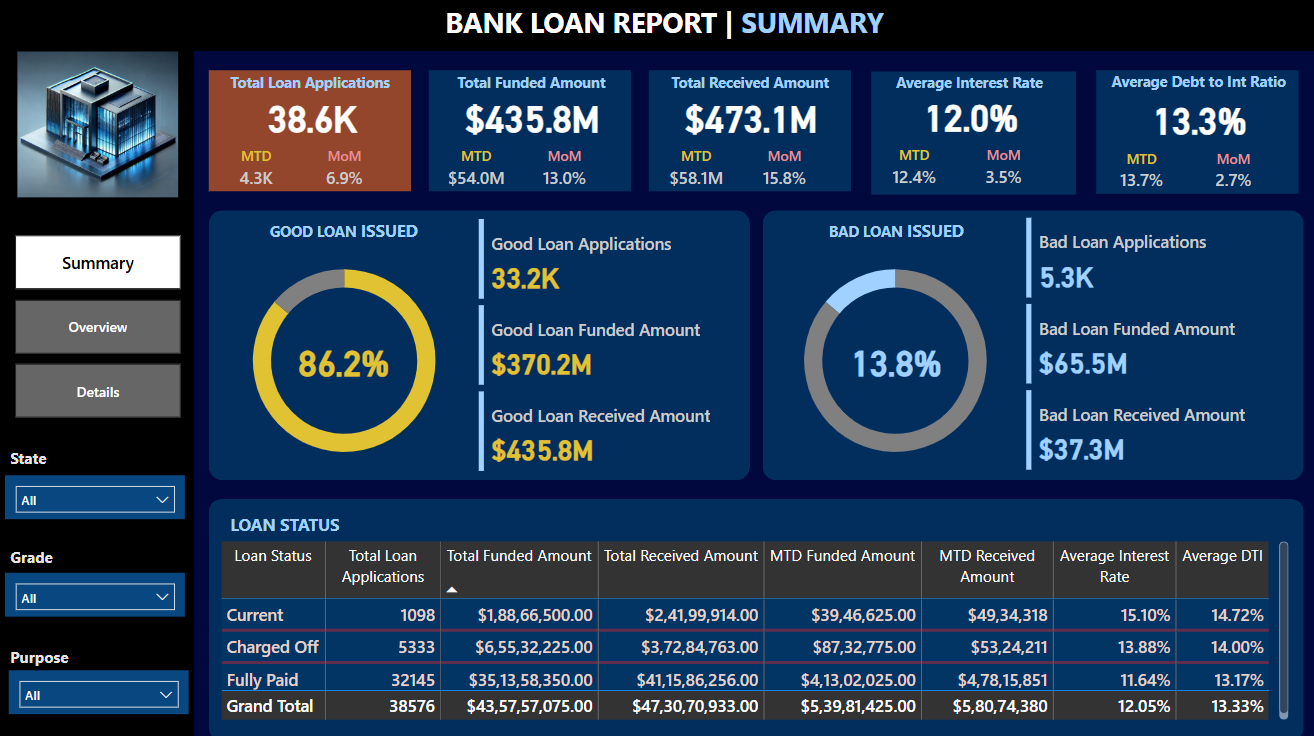

Layout of this report page (visuals, bound fields, positions):
{"tool":"powerbi","page":{"name":"Summary","canvas":[1280,720],"ordinal":0},"visuals":[{"type":"shape","box":[0,0,192,720.2],"z":0},{"type":"shape","box":[206.3,73.6,195.4,117],"z":0,"group":"g1"},{"type":"shape","box":[418.5,73.6,195.4,117],"z":0,"group":"g2"},{"type":"shape","box":[630.9,73.6,195.4,117],"z":0,"group":"g3"},{"type":"shape","box":[1063.2,73.6,195.4,119.4],"z":0,"group":"g5"},{"type":"shape","box":[846,74.2,197.7,118.9],"z":0,"group":"g4"},{"type":"shape","box":[0,0,1280,55],"z":1000},{"type":"card","fields":{"Values":["Bank_Loan_DB.Average Interest Rate"]},"box":[846.8,92.6,190.4,47.8],"z":1000,"group":"g4"},{"type":"card","fields":{"Values":["Bank_Loan_DB.Total Loan Applications"]},"box":[212.1,94.6,188.2,47.1],"z":1000,"group":"g1"},{"type":"card","fields":{"Values":["Bank_Loan_DB.Total Funded Amount"]},"box":[424.3,94.6,188.2,47.1],"z":1000,"group":"g2"},{"type":"card","fields":{"Values":["Bank_Loan_DB.Total Received Amount"]},"box":[636.6,94.6,188.2,47.1],"z":1000,"group":"g3"},{"type":"card","fields":{"Values":["Bank_Loan_DB.Average DTI"]},"box":[1064.4,97,196.9,47.1],"z":1000,"group":"g5"},{"type":"textbox","box":[1053.5,70.5,217.2,32.6],"z":2000,"group":"g5"},{"type":"textbox","box":[835.3,71,211.1,31.4],"z":2000,"group":"g4"},{"type":"textbox","box":[199,71.7,209.9,29],"z":2000,"group":"g1"},{"type":"textbox","box":[413.3,71.7,207.5,29],"z":2000,"group":"g2"},{"type":"textbox","box":[624.1,71.7,209.9,29],"z":2000,"group":"g3"},{"type":"shape","box":[206.3,208.7,522.4,260.6],"z":2000},{"type":"card","title":"MTD","fields":{"Values":["Bank_Loan_DB.MTD Average Interest Rate"]},"box":[853.2,146,68.3,44.1],"z":3000,"group":"g4"},{"type":"card","title":"MTD","fields":{"Values":["Bank_Loan_DB.MTD Loan Applications"]},"box":[218.4,147.2,67.6,43.4],"z":3000,"group":"g1"},{"type":"card","title":"MTD","fields":{"Values":["Bank_Loan_DB.MTD Funded Amount"]},"box":[430.6,147.2,67.6,43.4],"z":3000,"group":"g2"},{"type":"card","title":"MTD","fields":{"Values":["Bank_Loan_DB.MTD Received Amount"]},"box":[643,147.2,67.6,43.4],"z":3000,"group":"g3"},{"type":"card","title":"MTD","fields":{"Values":["Bank_Loan_DB.MTD DTI"]},"box":[1071,149.6,70.7,43.4],"z":3000,"group":"g5"},{"type":"donutChart","fields":{"Category":["Bank_Loan_DB.Good vs Bad Loan"],"Y":["Bank_Loan_DB.Total Loan Applications"]},"box":[212.3,238.9,249.7,230.4],"z":3000},{"type":"card","title":"MoM","fields":{"Values":["Bank_Loan_DB.Mom Average Interest Rate"]},"box":[939.8,146,67.1,44.1],"z":4000,"group":"g4"},{"type":"card","title":"MoM","fields":{"Values":["Bank_Loan_DB.Mom Loan Application"]},"box":[304,147.2,66.4,43.4],"z":4000,"group":"g1"},{"type":"card","title":"MoM","fields":{"Values":["Bank_Loan_DB.Mom Funded Amount"]},"box":[516.3,147.2,66.4,43.4],"z":4000,"group":"g2"},{"type":"card","title":"MoM","fields":{"Values":["Bank_Loan_DB.Mom Received Amount"]},"box":[728.6,147.2,66.4,43.4],"z":4000,"group":"g3"},{"type":"card","title":"MoM","fields":{"Values":["Bank_Loan_DB.Mom DTI Ratio"]},"box":[1160.6,149.6,69.4,43.4],"z":4000,"group":"g5"},{"type":"card","fields":{"Values":["Bank_Loan_DB.Good Loan %"]},"box":[272.7,330.6,127.9,47.1],"z":4000},{"type":"textbox","box":[347.5,564.6,393.3,29],"z":5000},{"type":"textbox","box":[231.6,212.3,209.9,39.8],"z":6000},{"type":"textbox","box":[422.3,3.6,447.6,47.1],"z":7000},{"type":"group","id":"g1","title":"Group 1","box":[199,71.7,209.9,118.9],"z":8000},{"type":"group","id":"g2","title":"Group 1","box":[413.3,71.7,207.5,118.9],"z":9000},{"type":"group","id":"g3","title":"Group 1","box":[624.1,71.7,209.9,118.9],"z":10000},{"type":"group","id":"g4","title":"Group 1","box":[835.3,71,211.1,122.1],"z":11000},{"type":"group","id":"g5","title":"Group 1","box":[1053.5,70.5,217.2,122.6],"z":12000},{"type":"shape","box":[740.8,208.7,522.4,260.6],"z":13000},{"type":"cardVisual","fields":{"Data":["Bank_Loan_DB.Good Loan Applications","Bank_Loan_DB.Good Loan Funded Amount","Bank_Loan_DB.Good Loan Received Amount"]},"box":[462.1,212.3,254.6,254.6],"z":14000},{"type":"donutChart","fields":{"Category":["Bank_Loan_DB.Good vs Bad Loan"],"Y":["Bank_Loan_DB.Total Loan Applications"]},"box":[744.4,238.9,249.7,230.4],"z":15000},{"type":"shape","box":[206.3,487.4,1056.8,232.8],"z":16000},{"type":"cardVisual","fields":{"Data":["Bank_Loan_DB.Bad Loan Applications","Bank_Loan_DB.Bad Loan Funded Amount","Bank_Loan_DB.Bad Loan Received Amount"]},"box":[990.5,211.1,254.6,254.6],"z":17000},{"type":"textbox","box":[764.9,212.3,209.9,39.8],"z":18000},{"type":"card","fields":{"Values":["Bank_Loan_DB.Bad Loan %"]},"box":[805.9,330.6,127.9,47.1],"z":19000},{"type":"tableEx","fields":{"Values":["Bank_Loan_DB.loan_status","Bank_Loan_DB.Total Loan Applications","Bank_Loan_DB.Total Funded Amount","Bank_Loan_DB.Total Received Amount","Bank_Loan_DB.MTD Funded Amount","Bank_Loan_DB.MTD Received Amount","Bank_Loan_DB.Average Interest Rate","Bank_Loan_DB.Average DTI"]},"box":[212.3,523.6,1041.2,182.2],"z":20000},{"type":"textbox","box":[222,495.8,219.6,31.4],"z":21000},{"type":"slicer","fields":{"Values":["Bank_Loan_DB.address_state"]},"box":[9.7,464,173.7,42.2],"z":22000},{"type":"textbox","box":[9.7,433.1,53.1,36.2],"z":23000},{"type":"slicer","fields":{"Values":["Bank_Loan_DB.grade"]},"box":[9.7,558.3,173.7,42.2],"z":24000},{"type":"slicer","fields":{"Values":["Bank_Loan_DB.purpose"]},"box":[13.3,652.7,173.7,42.2],"z":25000},{"type":"textbox","box":[9.7,624.9,78.4,36.2],"z":26000},{"type":"textbox","box":[9.7,528.4,63.9,36.2],"z":27000},{"type":"pageNavigator","box":[19.3,232.8,160.5,178.6],"z":28000},{"type":"image","box":[0,50.7,199.1,150.8],"z":29000}]}

Visuals, with their boxes in screenshot pixels (x1, y1, x2, y2), scaled from the page's 1280x720 canvas onto the 1314x736 screenshot:
shape: pyautogui.locateOnScreen(0, 0, 197, 735)
shape: pyautogui.locateOnScreen(212, 75, 412, 195)
shape: pyautogui.locateOnScreen(430, 75, 630, 195)
shape: pyautogui.locateOnScreen(648, 75, 848, 195)
shape: pyautogui.locateOnScreen(1091, 75, 1292, 197)
shape: pyautogui.locateOnScreen(868, 76, 1071, 197)
shape: pyautogui.locateOnScreen(0, 0, 1313, 56)
card - Bank_Loan_DB.Average Interest Rate: pyautogui.locateOnScreen(869, 95, 1065, 144)
card - Bank_Loan_DB.Total Loan Applications: pyautogui.locateOnScreen(218, 97, 411, 145)
card - Bank_Loan_DB.Total Funded Amount: pyautogui.locateOnScreen(436, 97, 629, 145)
card - Bank_Loan_DB.Total Received Amount: pyautogui.locateOnScreen(654, 97, 847, 145)
card - Bank_Loan_DB.Average DTI: pyautogui.locateOnScreen(1093, 99, 1295, 147)
textbox: pyautogui.locateOnScreen(1081, 72, 1304, 105)
textbox: pyautogui.locateOnScreen(857, 73, 1074, 105)
textbox: pyautogui.locateOnScreen(204, 73, 420, 103)
textbox: pyautogui.locateOnScreen(424, 73, 637, 103)
textbox: pyautogui.locateOnScreen(641, 73, 856, 103)
shape: pyautogui.locateOnScreen(212, 213, 748, 480)
"MTD" card: pyautogui.locateOnScreen(876, 149, 946, 194)
"MTD" card: pyautogui.locateOnScreen(224, 150, 294, 195)
"MTD" card: pyautogui.locateOnScreen(442, 150, 511, 195)
"MTD" card: pyautogui.locateOnScreen(660, 150, 729, 195)
"MTD" card: pyautogui.locateOnScreen(1099, 153, 1172, 197)
donutChart - Bank_Loan_DB.Good vs Bad Loan x Bank_Loan_DB.Total Loan Applications: pyautogui.locateOnScreen(218, 244, 474, 480)
"MoM" card: pyautogui.locateOnScreen(965, 149, 1034, 194)
"MoM" card: pyautogui.locateOnScreen(312, 150, 380, 195)
"MoM" card: pyautogui.locateOnScreen(530, 150, 598, 195)
"MoM" card: pyautogui.locateOnScreen(748, 150, 816, 195)
"MoM" card: pyautogui.locateOnScreen(1191, 153, 1263, 197)
card - Bank_Loan_DB.Good Loan %: pyautogui.locateOnScreen(280, 338, 411, 386)
textbox: pyautogui.locateOnScreen(357, 577, 760, 607)
textbox: pyautogui.locateOnScreen(238, 217, 453, 258)
textbox: pyautogui.locateOnScreen(434, 4, 893, 52)
"Group 1" group: pyautogui.locateOnScreen(204, 73, 420, 195)
"Group 1" group: pyautogui.locateOnScreen(424, 73, 637, 195)
"Group 1" group: pyautogui.locateOnScreen(641, 73, 856, 195)
"Group 1" group: pyautogui.locateOnScreen(857, 73, 1074, 197)
"Group 1" group: pyautogui.locateOnScreen(1081, 72, 1304, 197)
shape: pyautogui.locateOnScreen(760, 213, 1297, 480)
cardVisual - Bank_Loan_DB.Good Loan Applications x Bank_Loan_DB.Good Loan Funded Amount: pyautogui.locateOnScreen(474, 217, 736, 477)
donutChart - Bank_Loan_DB.Good vs Bad Loan x Bank_Loan_DB.Total Loan Applications: pyautogui.locateOnScreen(764, 244, 1021, 480)
shape: pyautogui.locateOnScreen(212, 498, 1297, 735)
cardVisual - Bank_Loan_DB.Bad Loan Applications x Bank_Loan_DB.Bad Loan Funded Amount: pyautogui.locateOnScreen(1017, 216, 1278, 476)
textbox: pyautogui.locateOnScreen(785, 217, 1001, 258)
card - Bank_Loan_DB.Bad Loan %: pyautogui.locateOnScreen(827, 338, 959, 386)
tableEx - Bank_Loan_DB.loan_status x Bank_Loan_DB.Total Loan Applications: pyautogui.locateOnScreen(218, 535, 1287, 721)
textbox: pyautogui.locateOnScreen(228, 507, 453, 539)
slicer - Bank_Loan_DB.address_state: pyautogui.locateOnScreen(10, 474, 188, 517)
textbox: pyautogui.locateOnScreen(10, 443, 64, 480)
slicer - Bank_Loan_DB.grade: pyautogui.locateOnScreen(10, 571, 188, 614)
slicer - Bank_Loan_DB.purpose: pyautogui.locateOnScreen(14, 667, 192, 710)
textbox: pyautogui.locateOnScreen(10, 639, 90, 676)
textbox: pyautogui.locateOnScreen(10, 540, 76, 577)
pageNavigator: pyautogui.locateOnScreen(20, 238, 185, 421)
image: pyautogui.locateOnScreen(0, 52, 204, 206)
